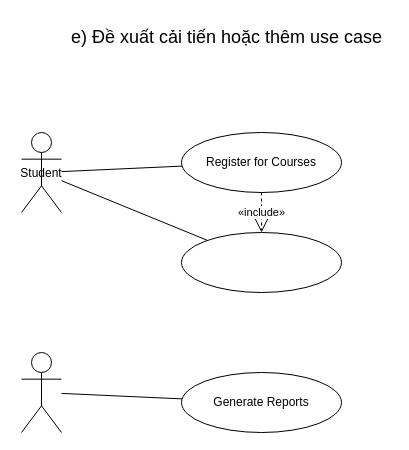
Image size: 409x450. Some labels were removed from this diagram. Each missing label, with the centre of its shape:
"Registrar" goes at point 41,392.
"View Registered Courses" goes at point 261,262.
